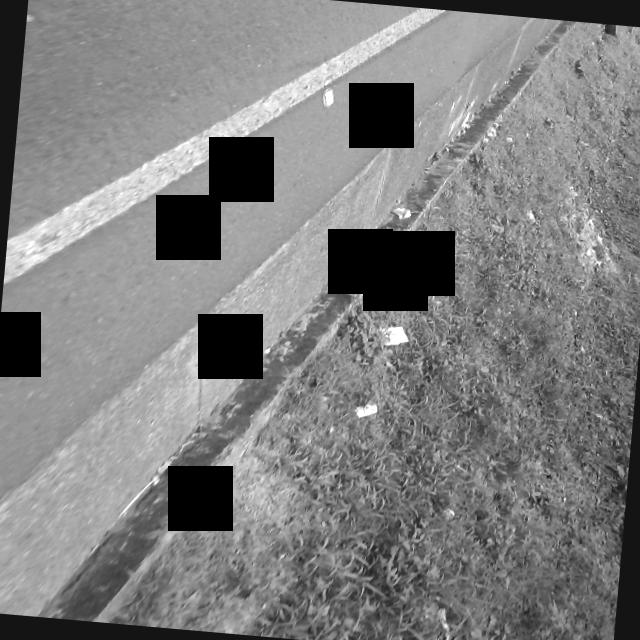DITCH: (0, 0, 572, 640), (0, 0, 564, 640), (0, 0, 558, 640)
